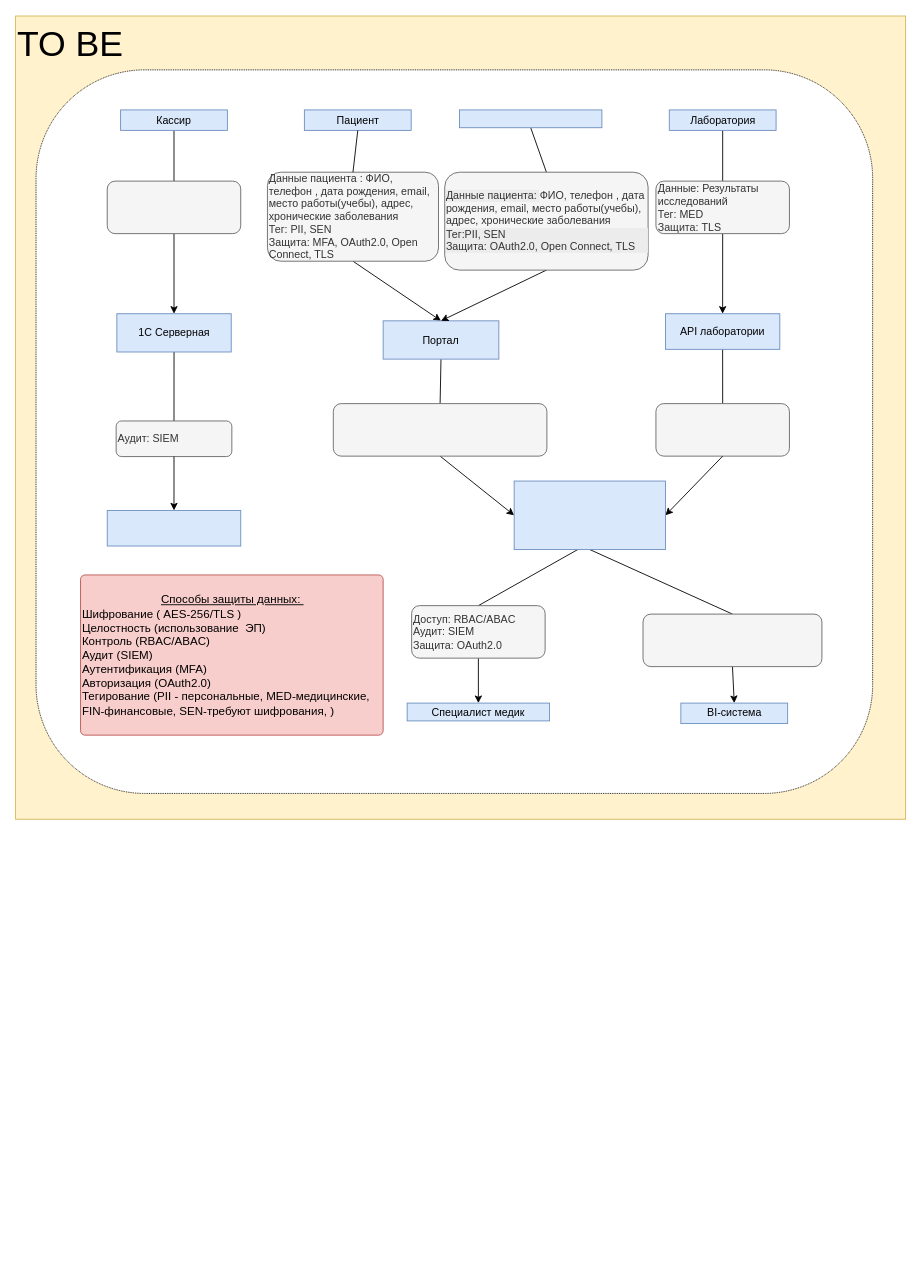
This 921x1278 diagram has some shape labels left out. The shapes that lost their labels are listed below. From the top down, each one's box as (x1, y1, x2, y2) in pixels, then its label:
(459, 109, 602, 128): Сотрудник ресепшена
(106, 180, 241, 234): Данные: Банковские реквизиты Тег: FIN Защита: Токенизация
(332, 403, 547, 456): Данные: Журнал, медкарта Тег: MED, SEN Защита: AES-256 Аудит:SIEM
(655, 403, 789, 456): Аудит: SIEM Защита: TLS
(106, 510, 241, 546): Мониторинг
(513, 480, 665, 550): Система электронных медицинских карт
(642, 613, 822, 667): Аналитика: Обезличенные данные Аудит: SIEM Защита: OAuth2.0
